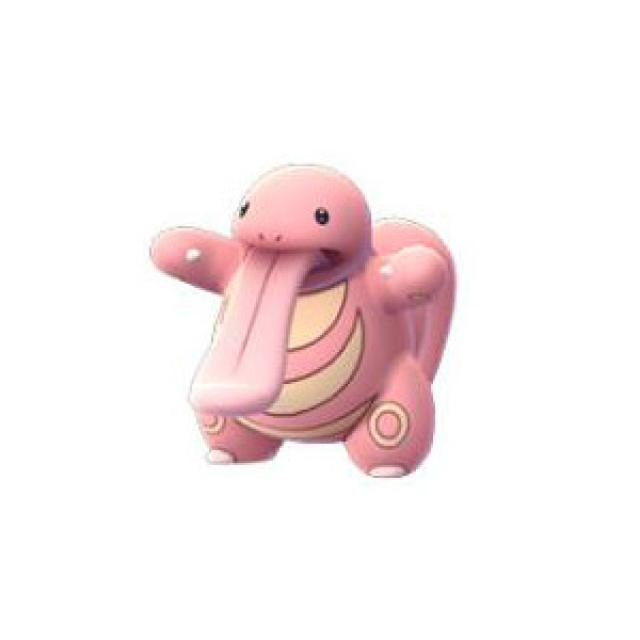Lickitung: (172, 153, 468, 460)
